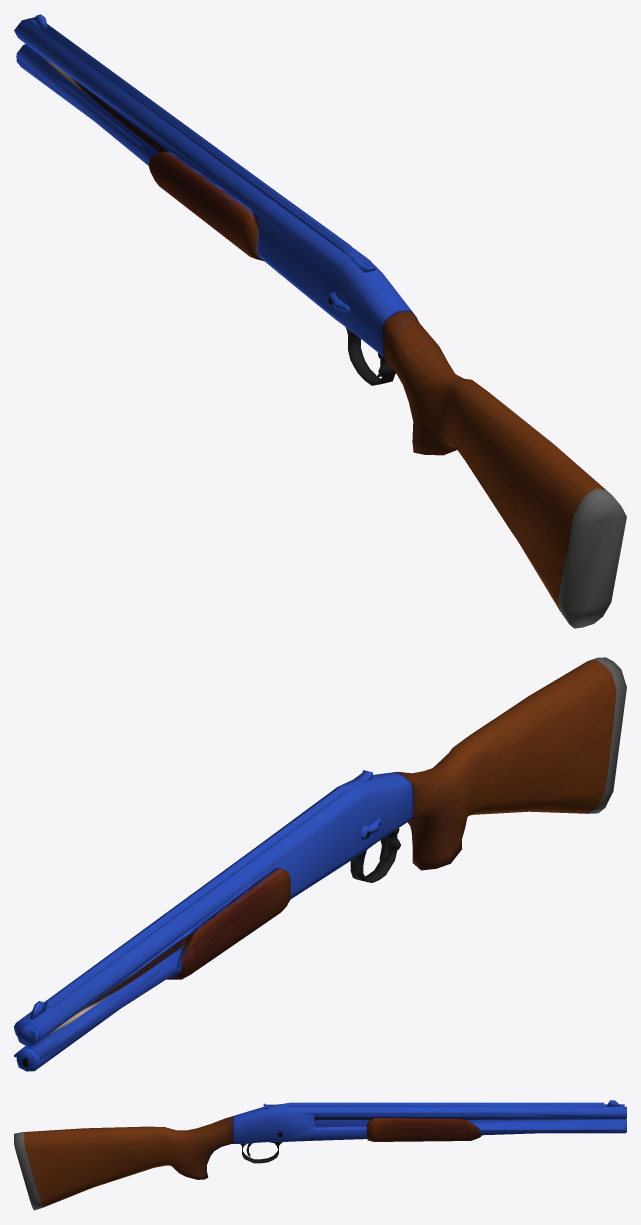
Rendered from shotgun.glb.
The picture shows the model from 3 angles, top to bottom: view 1: azimuth 30°, elevation 25°; view 2: azimuth 150°, elevation 25°; view 3: azimuth 270°, elevation 25°; orthographic projection. The views are drawn at different scales.
Visible parts, largest first — view 1: tripo_node_6c72b866-b3ee-4795-91b2-b509eca06123; view 2: tripo_node_6c72b866-b3ee-4795-91b2-b509eca06123; view 3: tripo_node_6c72b866-b3ee-4795-91b2-b509eca06123.
Part boxes in pixels (x1=…): tripo_node_6c72b866-b3ee-4795-91b2-b509eca06123: x1=14, y1=14, x2=626, y2=628; tripo_node_6c72b866-b3ee-4795-91b2-b509eca06123: x1=14, y1=657, x2=626, y2=1071; tripo_node_6c72b866-b3ee-4795-91b2-b509eca06123: x1=14, y1=1100, x2=626, y2=1210.
Bounding box in the file's own units: 0.0488 × 0.1973 × 0.998.
1 material, 1 textured.
